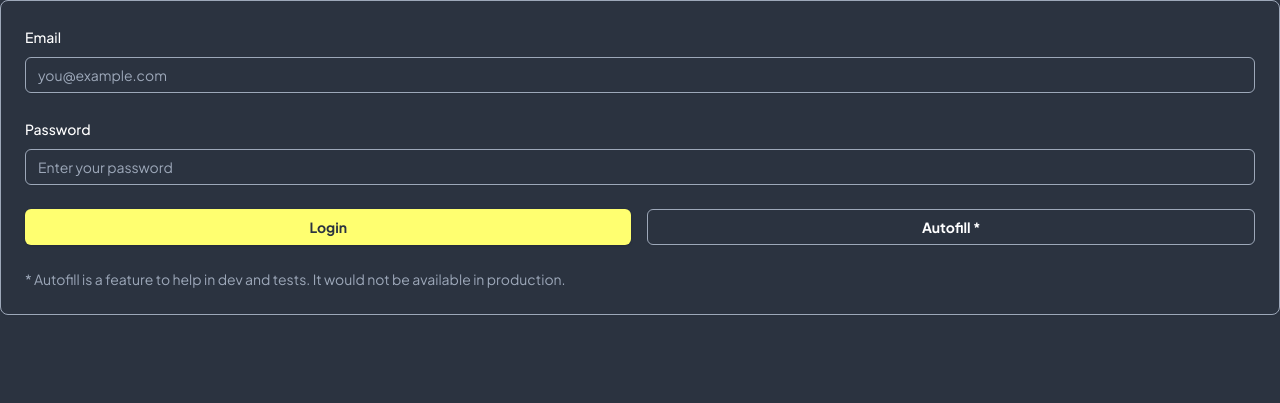
it: LoginForm › displays API error message on failed login attempt
The image size is (1280, 403).
Type "wrong@example.com" into the field labelled "Email" at (640, 75), box 25,57 -> 1255,93
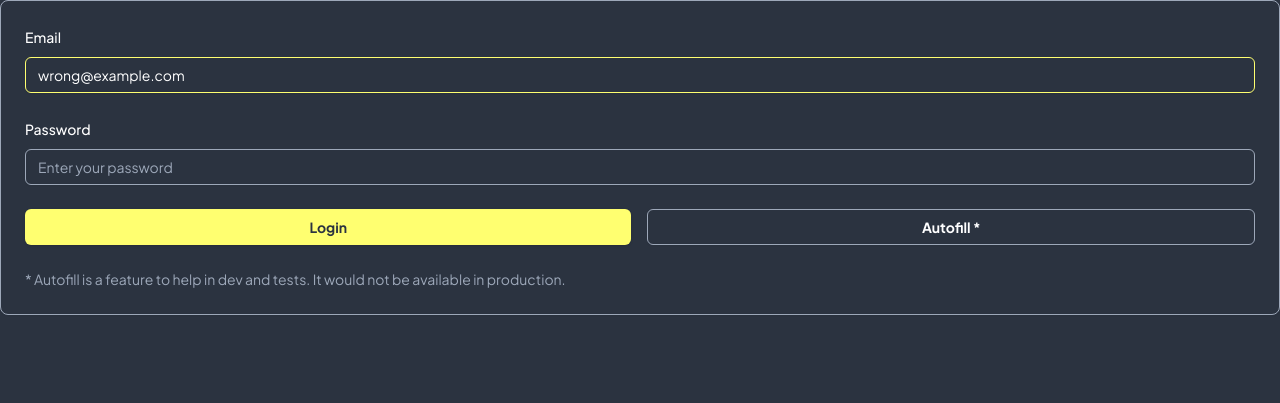
Type "wrongpassword" into the password field labelled "Password" at (640, 167), box 25,149 -> 1255,185
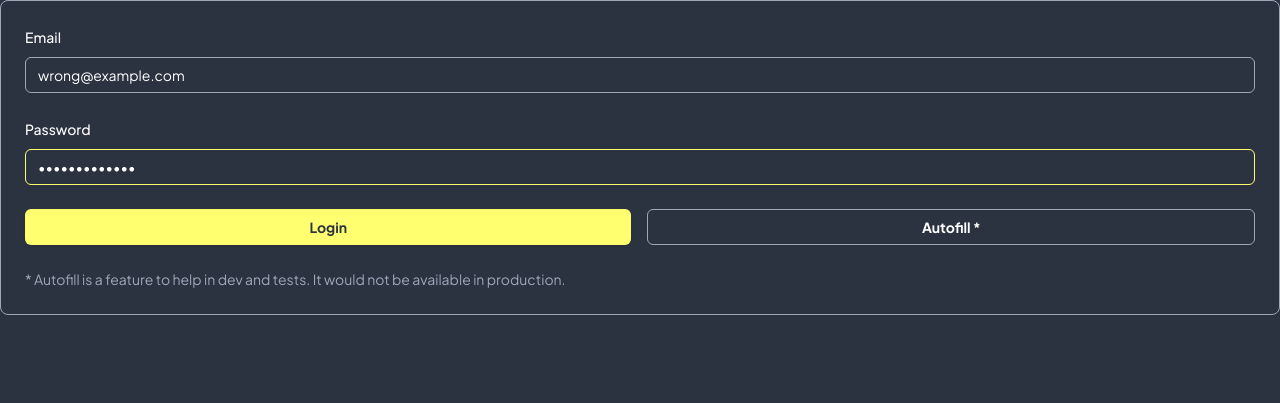
Click the button "Login" at (328, 227), box 25,209 -> 632,245
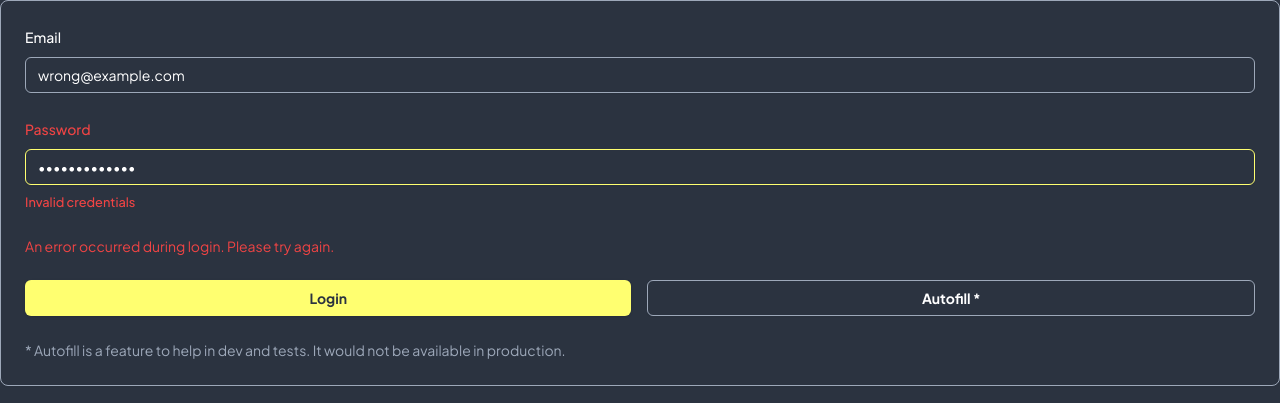
Expected: the text "Invalid credentials" is shown, 25,194 -> 135,210
